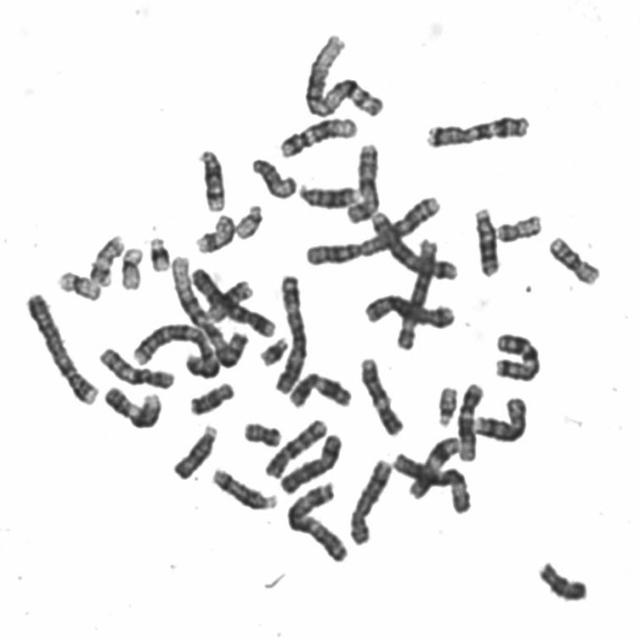A1: (167, 248, 249, 370), (300, 28, 388, 119)
A2: (301, 189, 444, 268), (128, 318, 223, 380)
A3: (281, 474, 352, 564), (270, 269, 310, 395)
B4: (20, 286, 100, 406), (184, 261, 278, 339)
B5: (364, 203, 461, 282), (360, 288, 457, 330)
C10: (259, 413, 329, 479), (94, 341, 178, 390)
C11: (406, 431, 463, 500), (284, 368, 354, 410)
C12: (274, 111, 360, 159), (454, 378, 486, 462)
C6: (388, 446, 474, 515), (392, 233, 440, 352)
C7: (422, 108, 534, 149), (490, 326, 544, 383)
C8: (345, 452, 395, 547), (468, 390, 530, 444)
C9: (356, 350, 406, 438), (99, 380, 164, 431)
D13: (469, 201, 502, 278), (294, 176, 362, 210)
D14: (208, 462, 280, 511), (191, 141, 228, 213)
D15: (168, 418, 220, 481), (246, 151, 298, 200)
E16: (545, 229, 603, 287), (202, 274, 256, 324)
E17: (85, 228, 127, 288), (191, 209, 237, 255)
E18: (534, 555, 590, 604), (185, 376, 237, 417)
F19: (52, 264, 104, 303), (116, 241, 145, 291)
F20: (491, 208, 545, 245), (238, 414, 284, 448)
G21: (255, 330, 292, 368), (144, 230, 172, 273)
G22: (230, 199, 265, 241), (432, 379, 460, 428)
X: (275, 428, 344, 496), (342, 138, 382, 225)
